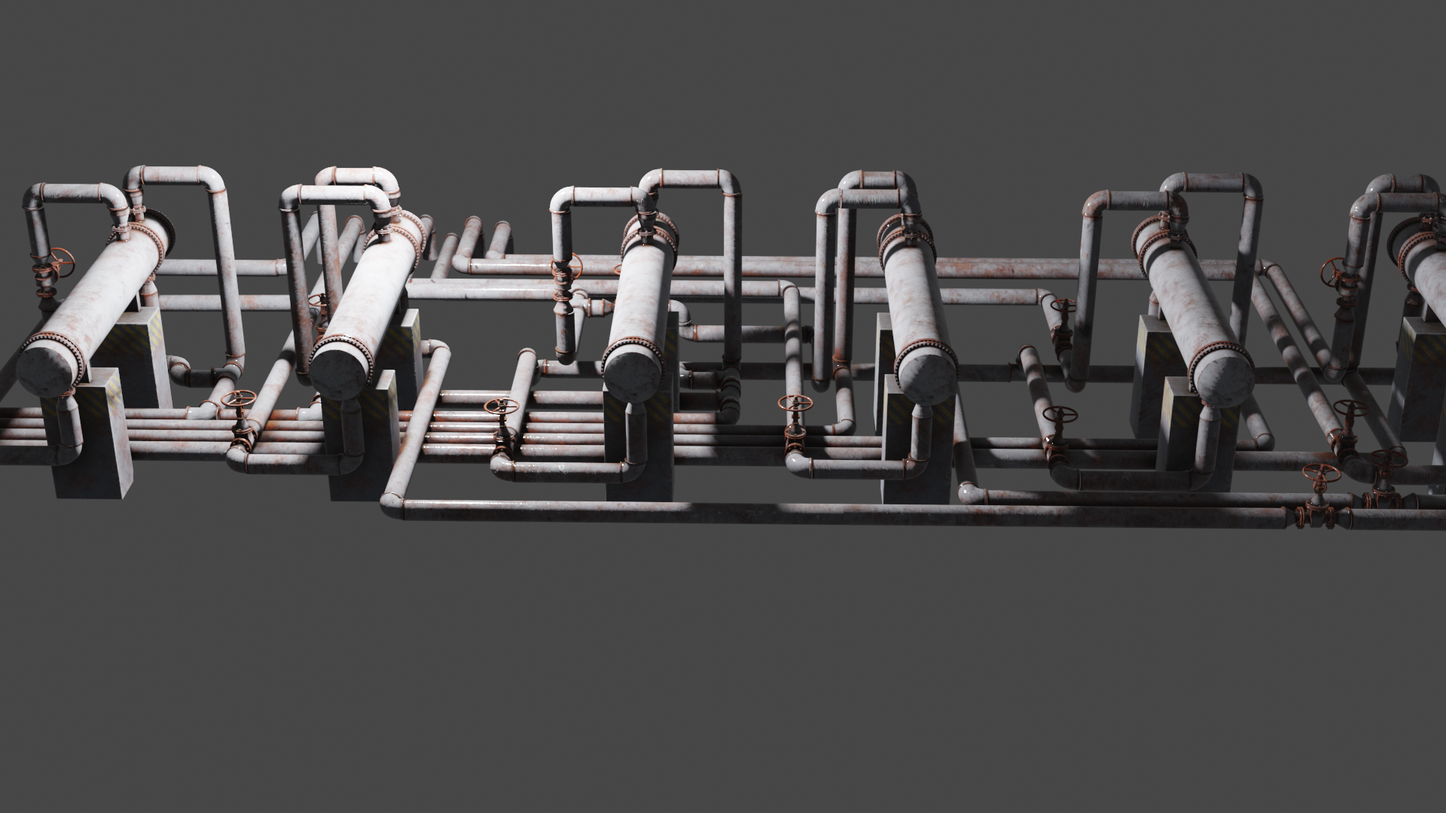HE_1: (1387, 213, 1444, 325)
HE_2: (1130, 216, 1253, 417)
HE_3: (875, 217, 960, 410)
HE_4: (600, 206, 683, 401)
HE_5: (303, 202, 430, 404)
HE_6: (14, 208, 178, 401)
